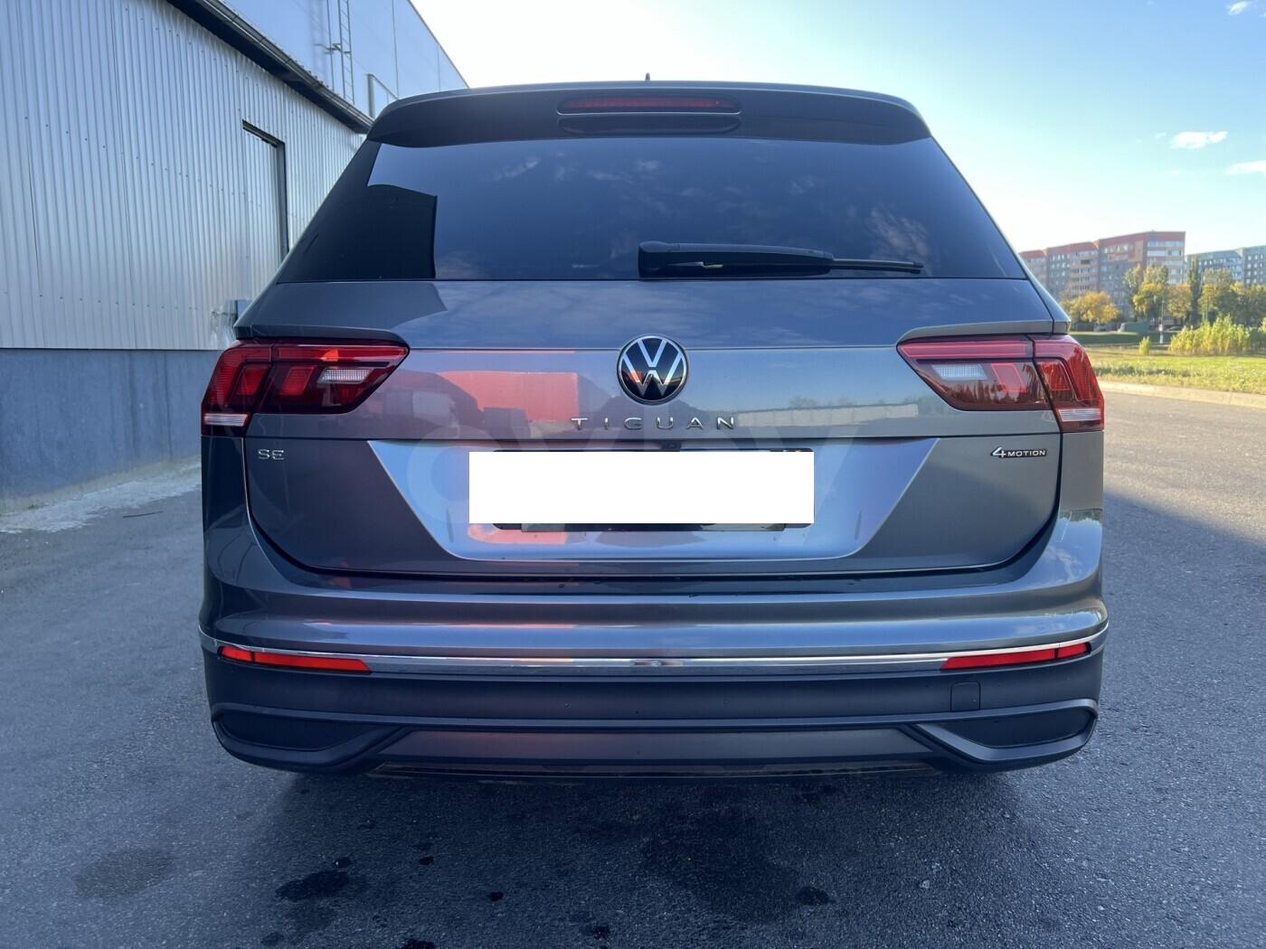Tiguan_2020-2024: (186, 77, 1114, 797)
